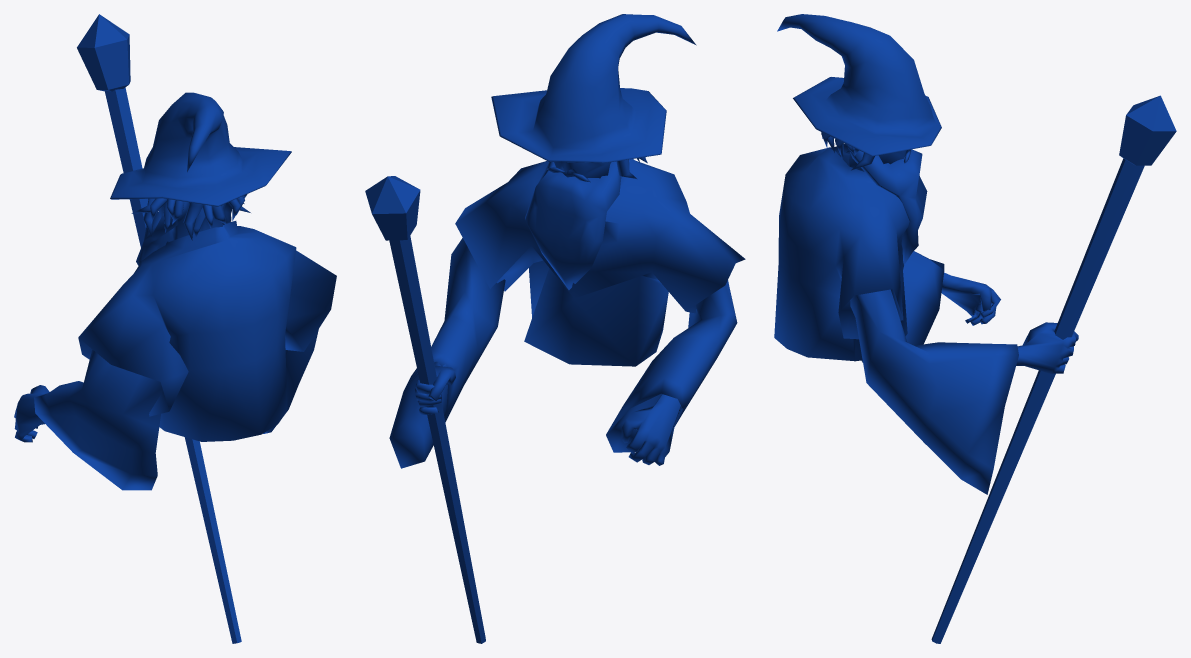
The model's file is top_000053.obj.
The picture shows the model from 3 angles, left to right: view 1: azimuth 30°, elevation 25°; view 2: azimuth 150°, elevation 25°; view 3: azimuth 270°, elevation 25°; orthographic projection. The views are drawn at different scales.
Parts seen in each view (by area): view 1: Wizard.002_Plane.002; view 2: Wizard.002_Plane.002; view 3: Wizard.002_Plane.002.
Boxes of the visible parts, x1,y1,x2,y2 form: Wizard.002_Plane.002: (14,14,336,643); Wizard.002_Plane.002: (365,14,745,643); Wizard.002_Plane.002: (774,14,1176,643).
Bounding box in the file's own units: 0.8356 × 1.8 × 1.12.
